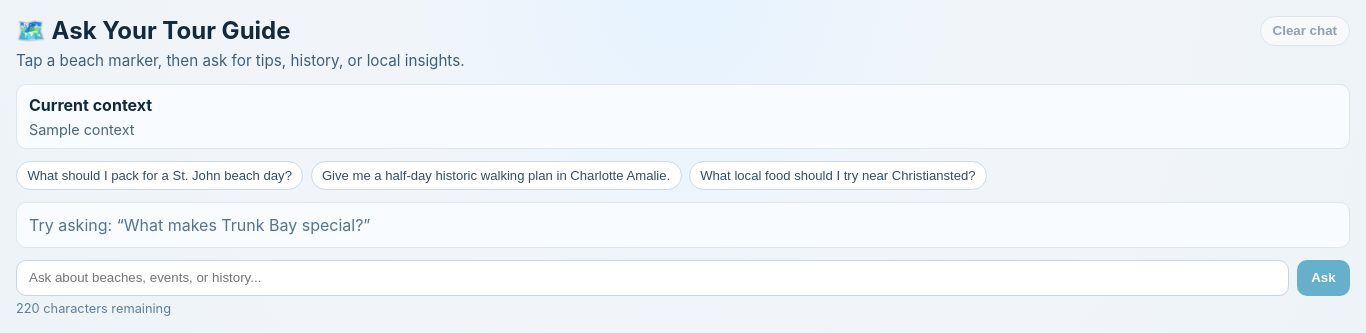
Test case: loads suggested prompt into input
What coordinates should you click on to do the following:
click the button "What should I pack for a St. John beach day?"
I would click on:
 (160, 176)
Its box is [16,161,303,190].
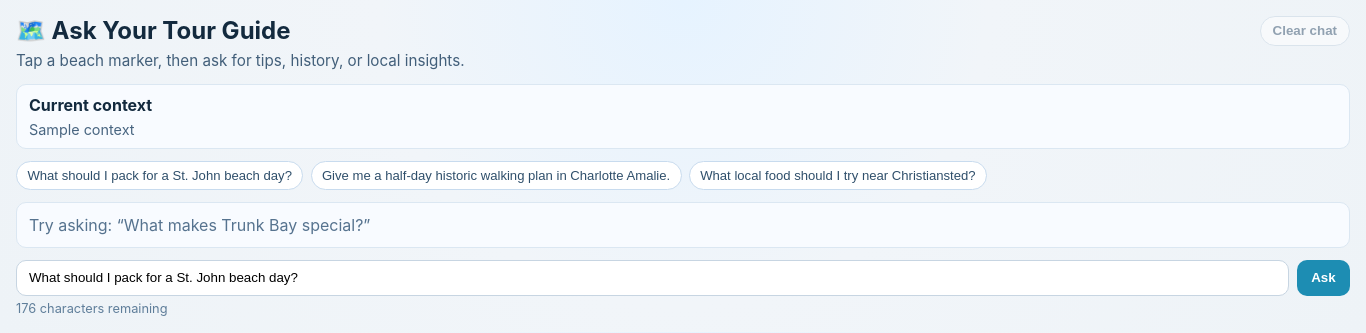
Result: the field named "ask the tour guide" holds "What should I pack for a St. John beach day?" at [16,260,1289,296]
